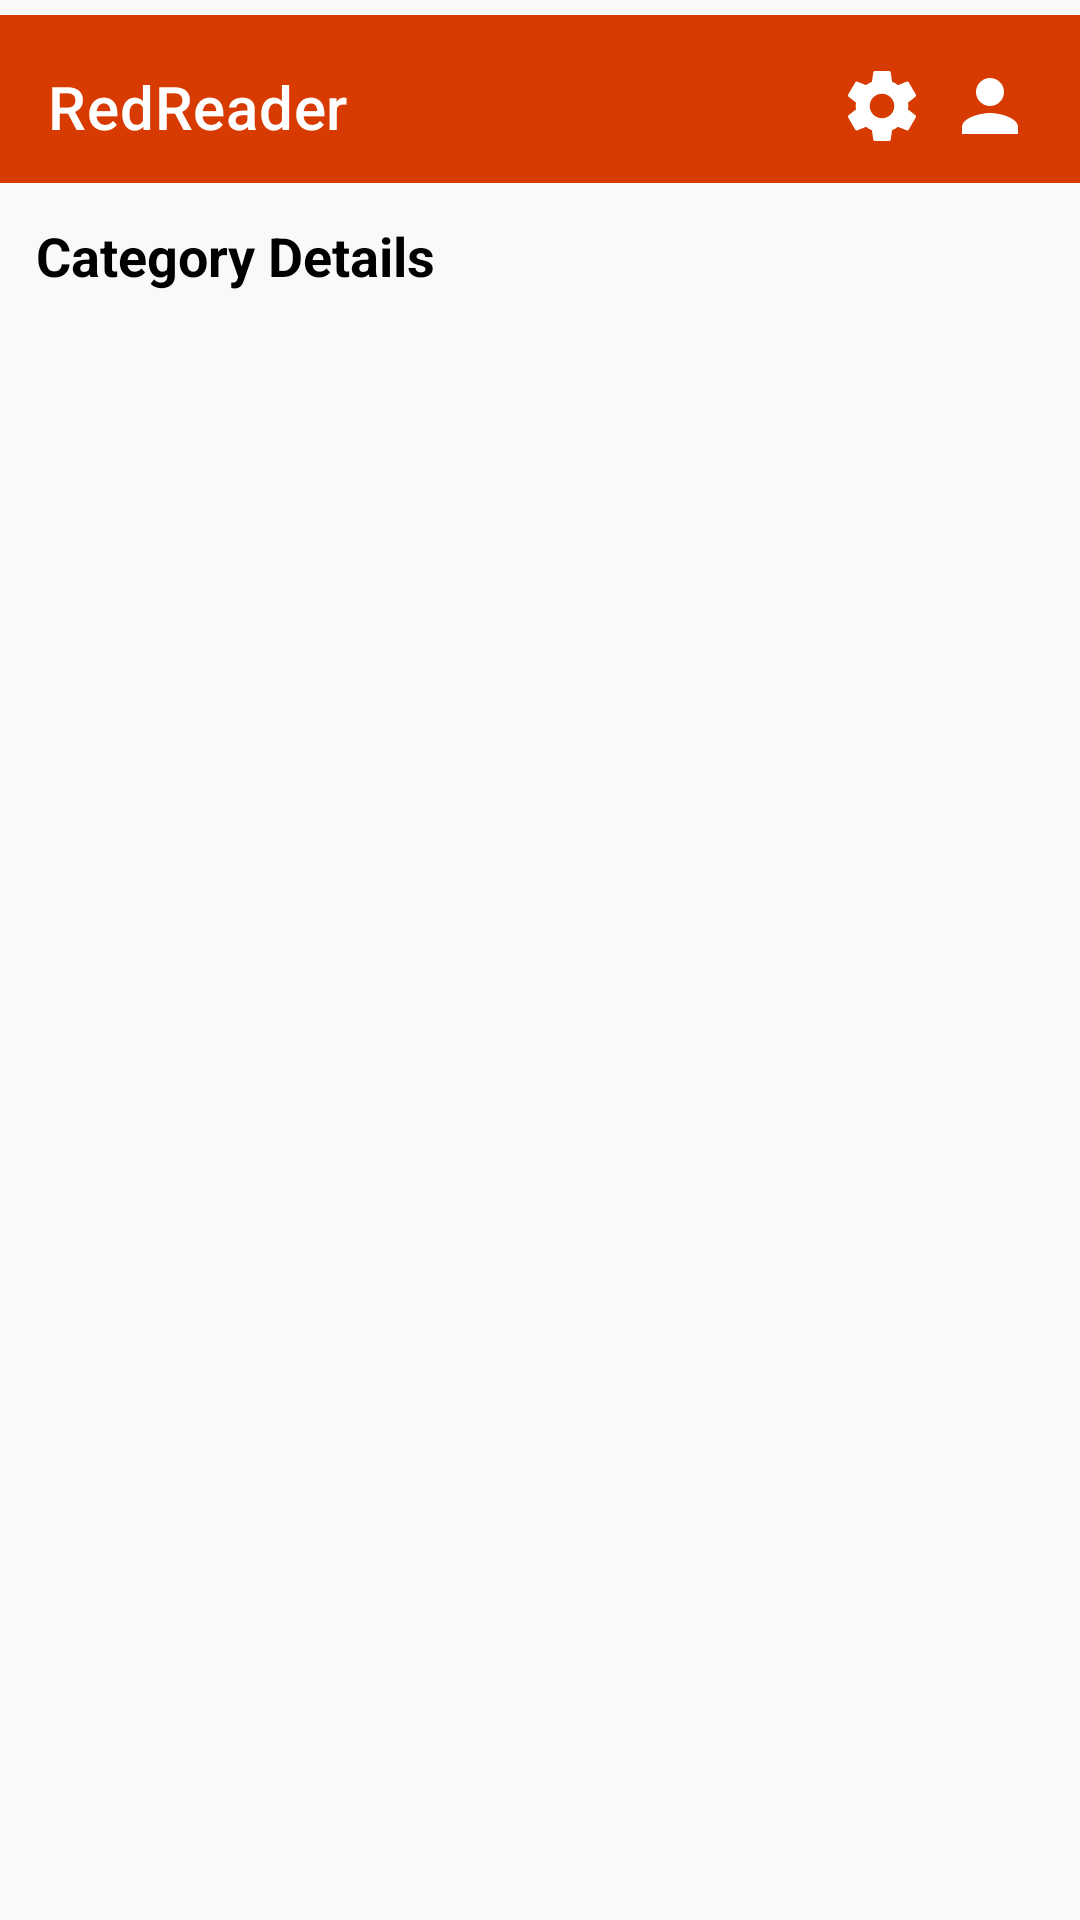

Icon bounding boxes for this 1080w x 1920h phone screenshot, format Rect(x1, y1, x2, y2):
Profile: Rect(962, 78, 1018, 134)
Settings: Rect(848, 71, 916, 141)
